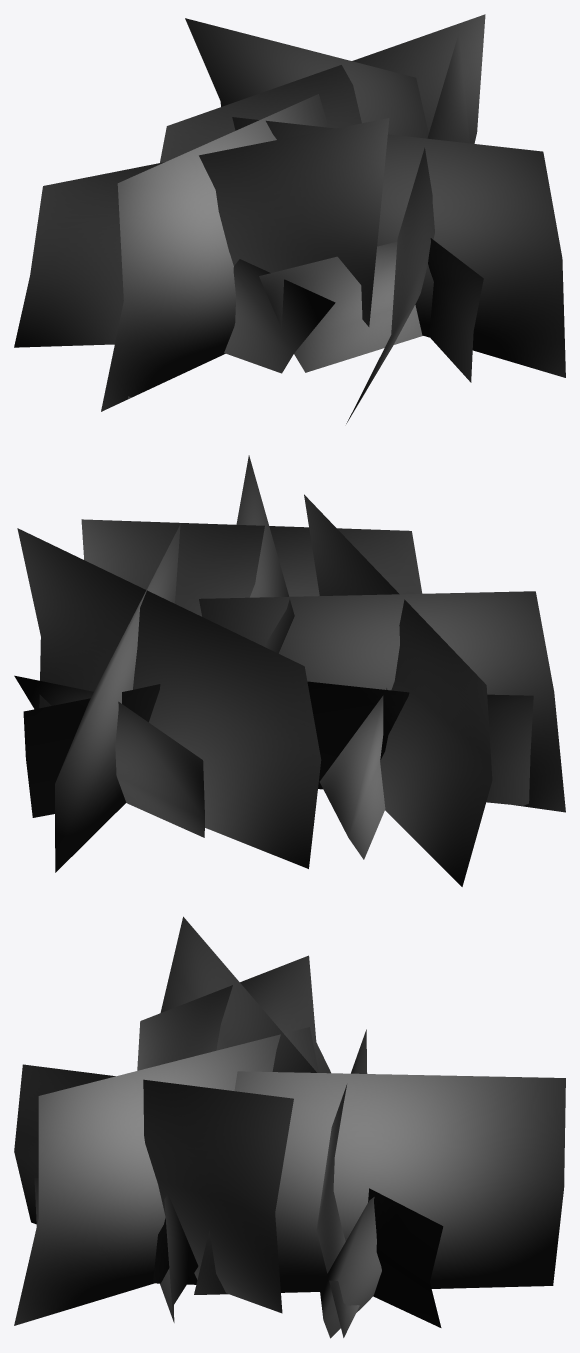
The model's file is SM_Grass_Short.fbx.
The picture shows the model from 3 angles, top to bottom: view 1: azimuth 30°, elevation 25°; view 2: azimuth 150°, elevation 25°; view 3: azimuth 270°, elevation 25°; orthographic projection. The views are drawn at different scales.
Parts seen in each view (by area): view 1: SM_Grass_Short; view 2: SM_Grass_Short; view 3: SM_Grass_Short.
Boxes of the visible parts, <box> form: SM_Grass_Short: <box>14,14,565,423</box>; SM_Grass_Short: <box>14,455,565,886</box>; SM_Grass_Short: <box>14,916,565,1338</box>.
Size of the model in its own units: 76.4 by 75.64 by 37.78.
Materials: 1 (1 with a texture image).
